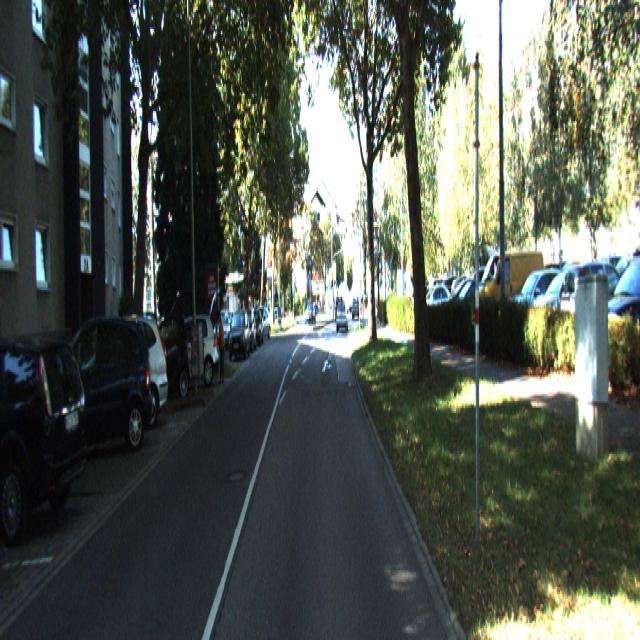Car: (0, 323, 90, 547), (29, 307, 153, 466), (68, 306, 170, 450), (159, 308, 220, 387), (143, 312, 189, 398), (228, 307, 250, 362), (236, 309, 256, 355)
